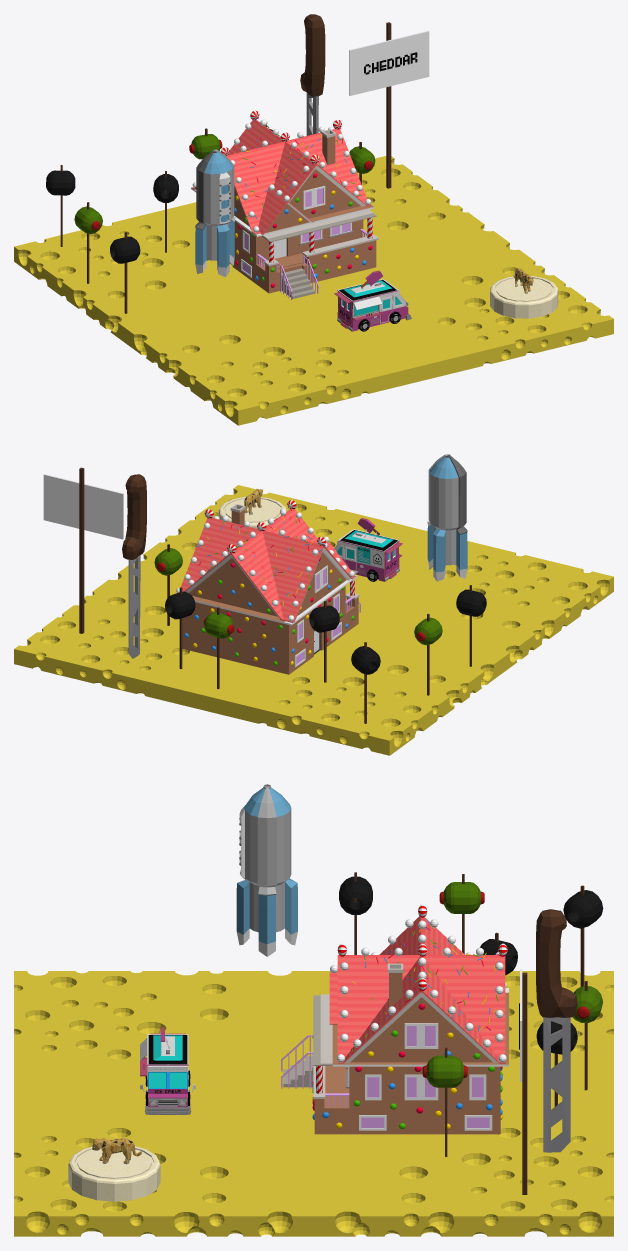
3 renders of one model, top to bottom at view 1: azimuth 30°, elevation 25°; view 2: azimuth 150°, elevation 25°; view 3: azimuth 270°, elevation 25°, orthographic. The views are drawn at different scales.
Visible parts, largest first — view 1: Cube.022, Cube.1203, Cube.023, OBJRANDOM_ROCKETSHIP, VEHICLES_ICE_CREAM_TRUCK, Cylinder.016, Cube.024, Sphere.017, Sphere.016, Sphere.018, Sphere.020, Sphere.022 (+1 smaller); view 2: Cube.022, Cube.1203, Cube.023, OBJRANDOM_ROCKETSHIP, Cube.024, VEHICLES_ICE_CREAM_TRUCK, Cylinder.016, Sphere.021, Sphere.017, Sphere.020, Sphere.016, Sphere.022 (+2 smaller); view 3: Cube.022, Cube.1203, OBJRANDOM_ROCKETSHIP, Cube.024, Cylinder.016, VEHICLES_ICE_CREAM_TRUCK, Cube.023, Sphere.016, Sphere.019, Sphere.018, Sphere.017, Sphere.022 (+3 smaller).
Part boxes in pixels (x1,y1,x2,y2): Cube.022: [14, 156, 613, 425]; Cube.1203: [191, 110, 378, 299]; Cube.023: [349, 22, 429, 188]; OBJRANDOM_ROCKETSHIP: [195, 149, 235, 277]; VEHICLES_ICE_CREAM_TRUCK: [334, 270, 411, 331]; Cylinder.016: [490, 275, 558, 318]; Cube.024: [300, 14, 325, 135]; Sphere.017: [110, 232, 140, 313]; Sphere.016: [46, 165, 75, 246]; Sphere.018: [74, 202, 102, 283]; Sphere.020: [153, 171, 178, 252]; Sphere.022: [189, 128, 222, 159]; Cube.022: [14, 485, 613, 755]; Cube.1203: [176, 500, 360, 674]; Cube.023: [43, 467, 123, 633]; OBJRANDOM_ROCKETSHIP: [427, 454, 467, 581]; Cube.024: [122, 474, 146, 658]; VEHICLES_ICE_CREAM_TRUCK: [334, 518, 402, 581]; Cylinder.016: [218, 496, 286, 528]; Sphere.021: [165, 587, 195, 668]; Sphere.017: [456, 585, 486, 666]; Sphere.020: [309, 601, 339, 682]; Sphere.016: [351, 642, 380, 723]; Sphere.022: [203, 607, 234, 689]; Cube.022: [14, 971, 613, 1236]; Cube.1203: [281, 904, 508, 1134]; OBJRANDOM_ROCKETSHIP: [236, 784, 297, 956]; Cube.024: [536, 909, 577, 1152]; Cylinder.016: [68, 1146, 160, 1201]; VEHICLES_ICE_CREAM_TRUCK: [140, 1027, 195, 1114]; Cube.023: [519, 969, 527, 1194]; Sphere.016: [563, 885, 603, 986]; Sphere.019: [422, 1047, 467, 1156]; Sphere.018: [439, 874, 484, 953]; Sphere.017: [339, 872, 372, 954]; Sphere.022: [573, 981, 602, 1090].
Bounding box in the file's own units: 3917 × 2007 × 4000.
58 materials, 4 textured.
